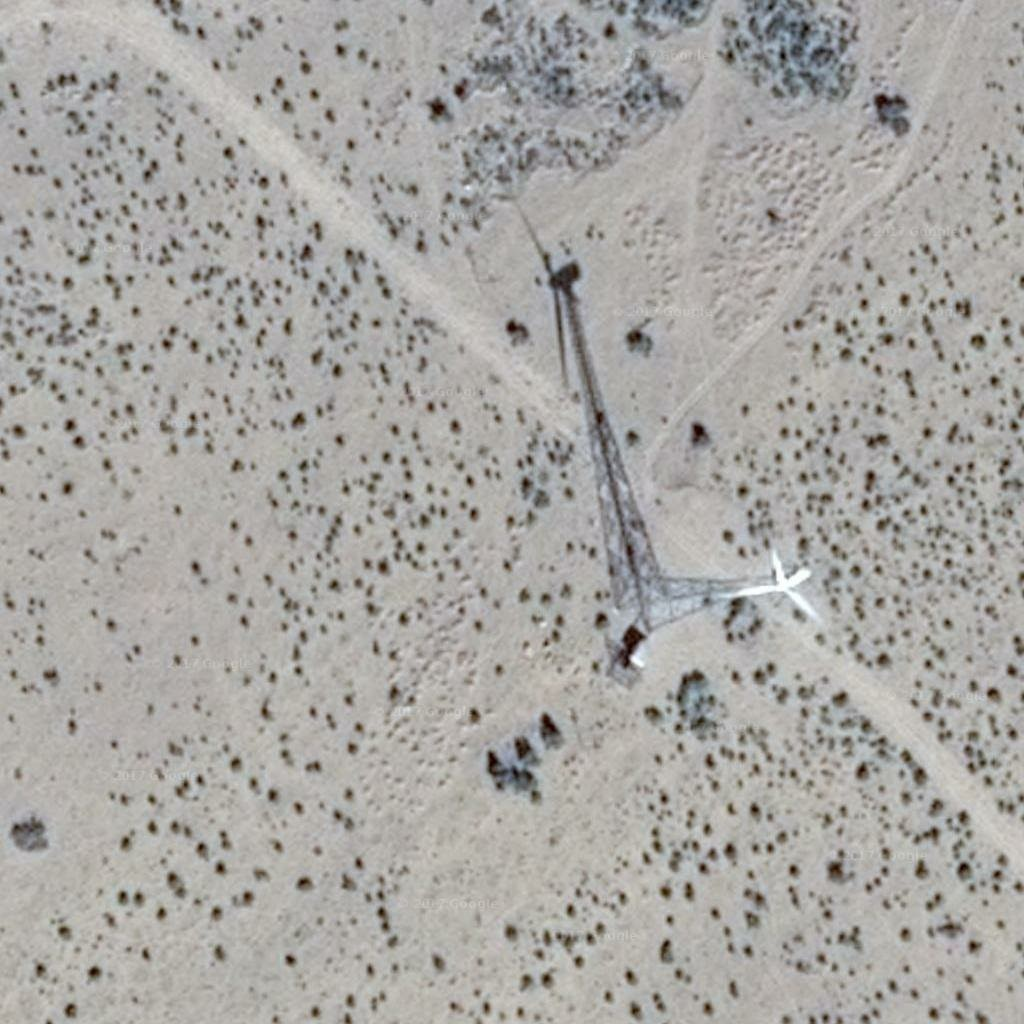Windmill: (502, 174, 667, 619)
